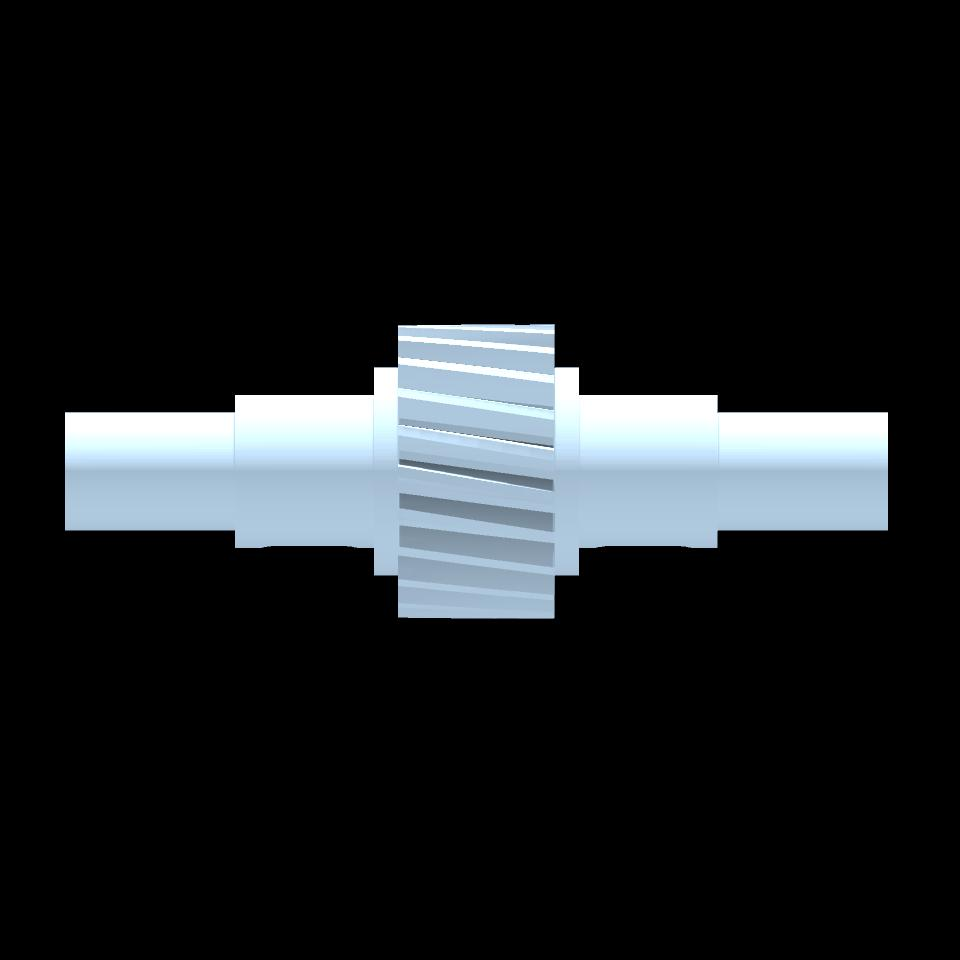Helical: (398, 326, 555, 618)
